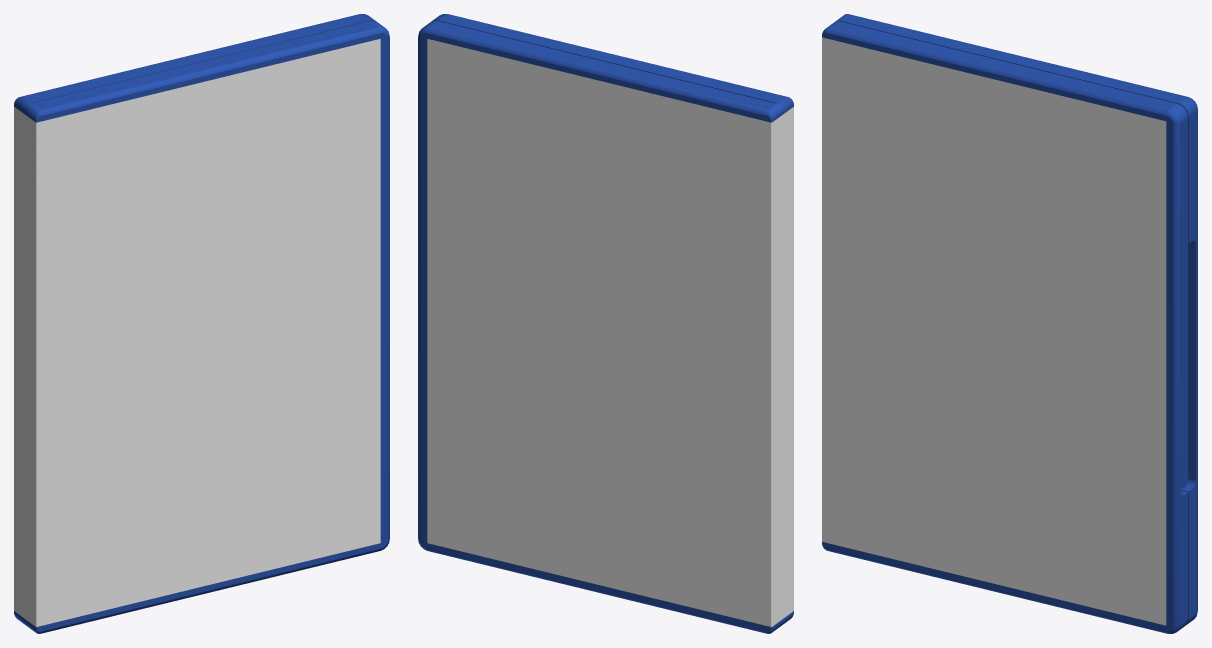
File: ps2_clamshell_blue.glb
3 renders of one model, left to right at view 1: azimuth 30°, elevation 25°; view 2: azimuth 150°, elevation 25°; view 3: azimuth 330°, elevation 25°, orthographic.
Parts seen in each view (by area): view 1: ps2_clamshell_blue; view 2: ps2_clamshell_blue; view 3: ps2_clamshell_blue.
Part boxes in pixels (x1,y1,x2,y2): ps2_clamshell_blue: (14,14,389,633); ps2_clamshell_blue: (418,14,793,633); ps2_clamshell_blue: (822,14,1197,633).
Size of the model in its own units: 0.7105 by 1 by 0.0779.
